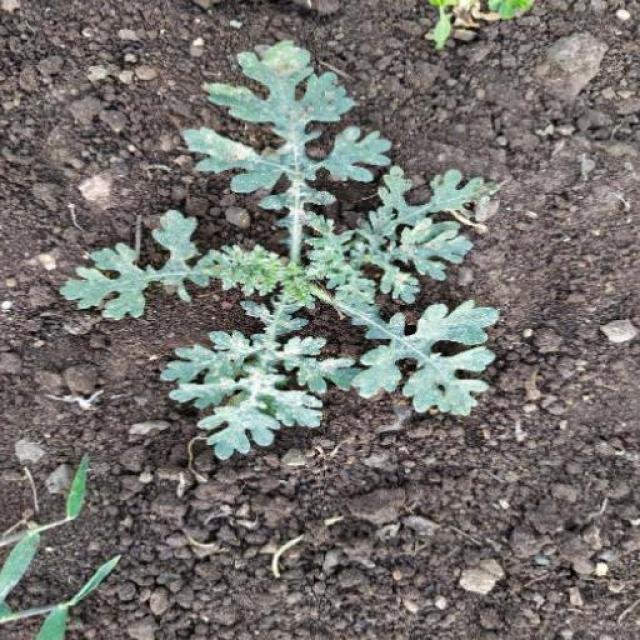weed: (61, 41, 521, 476)
